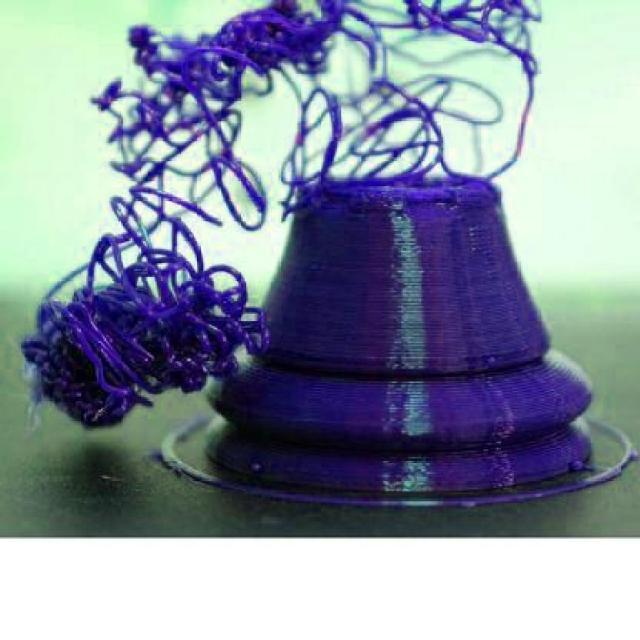spaghetti: (83, 0, 548, 231), (2, 234, 284, 441)
